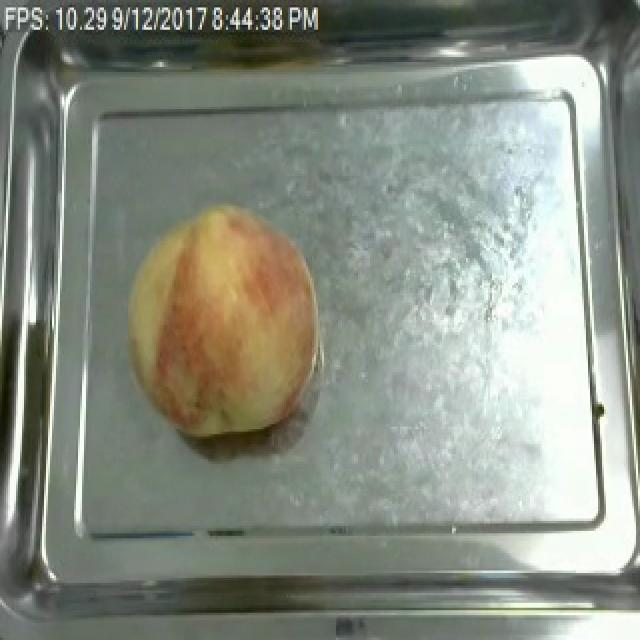Fruit: (118, 196, 328, 444)
